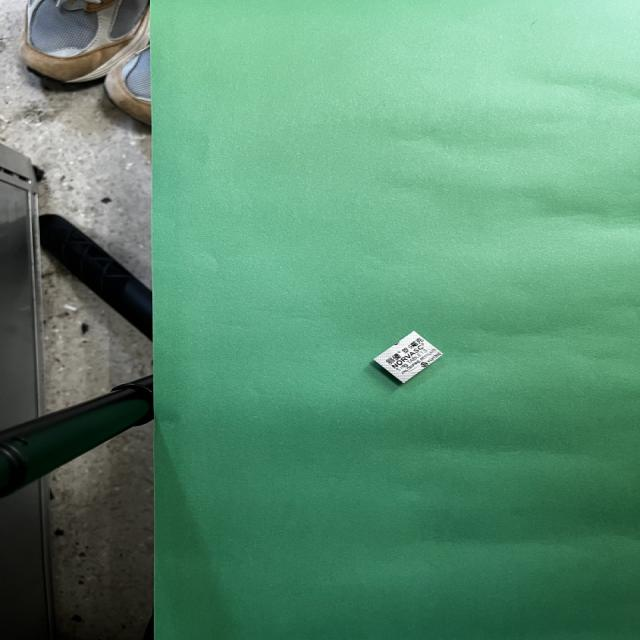Other Objects: (373, 331, 442, 383)
